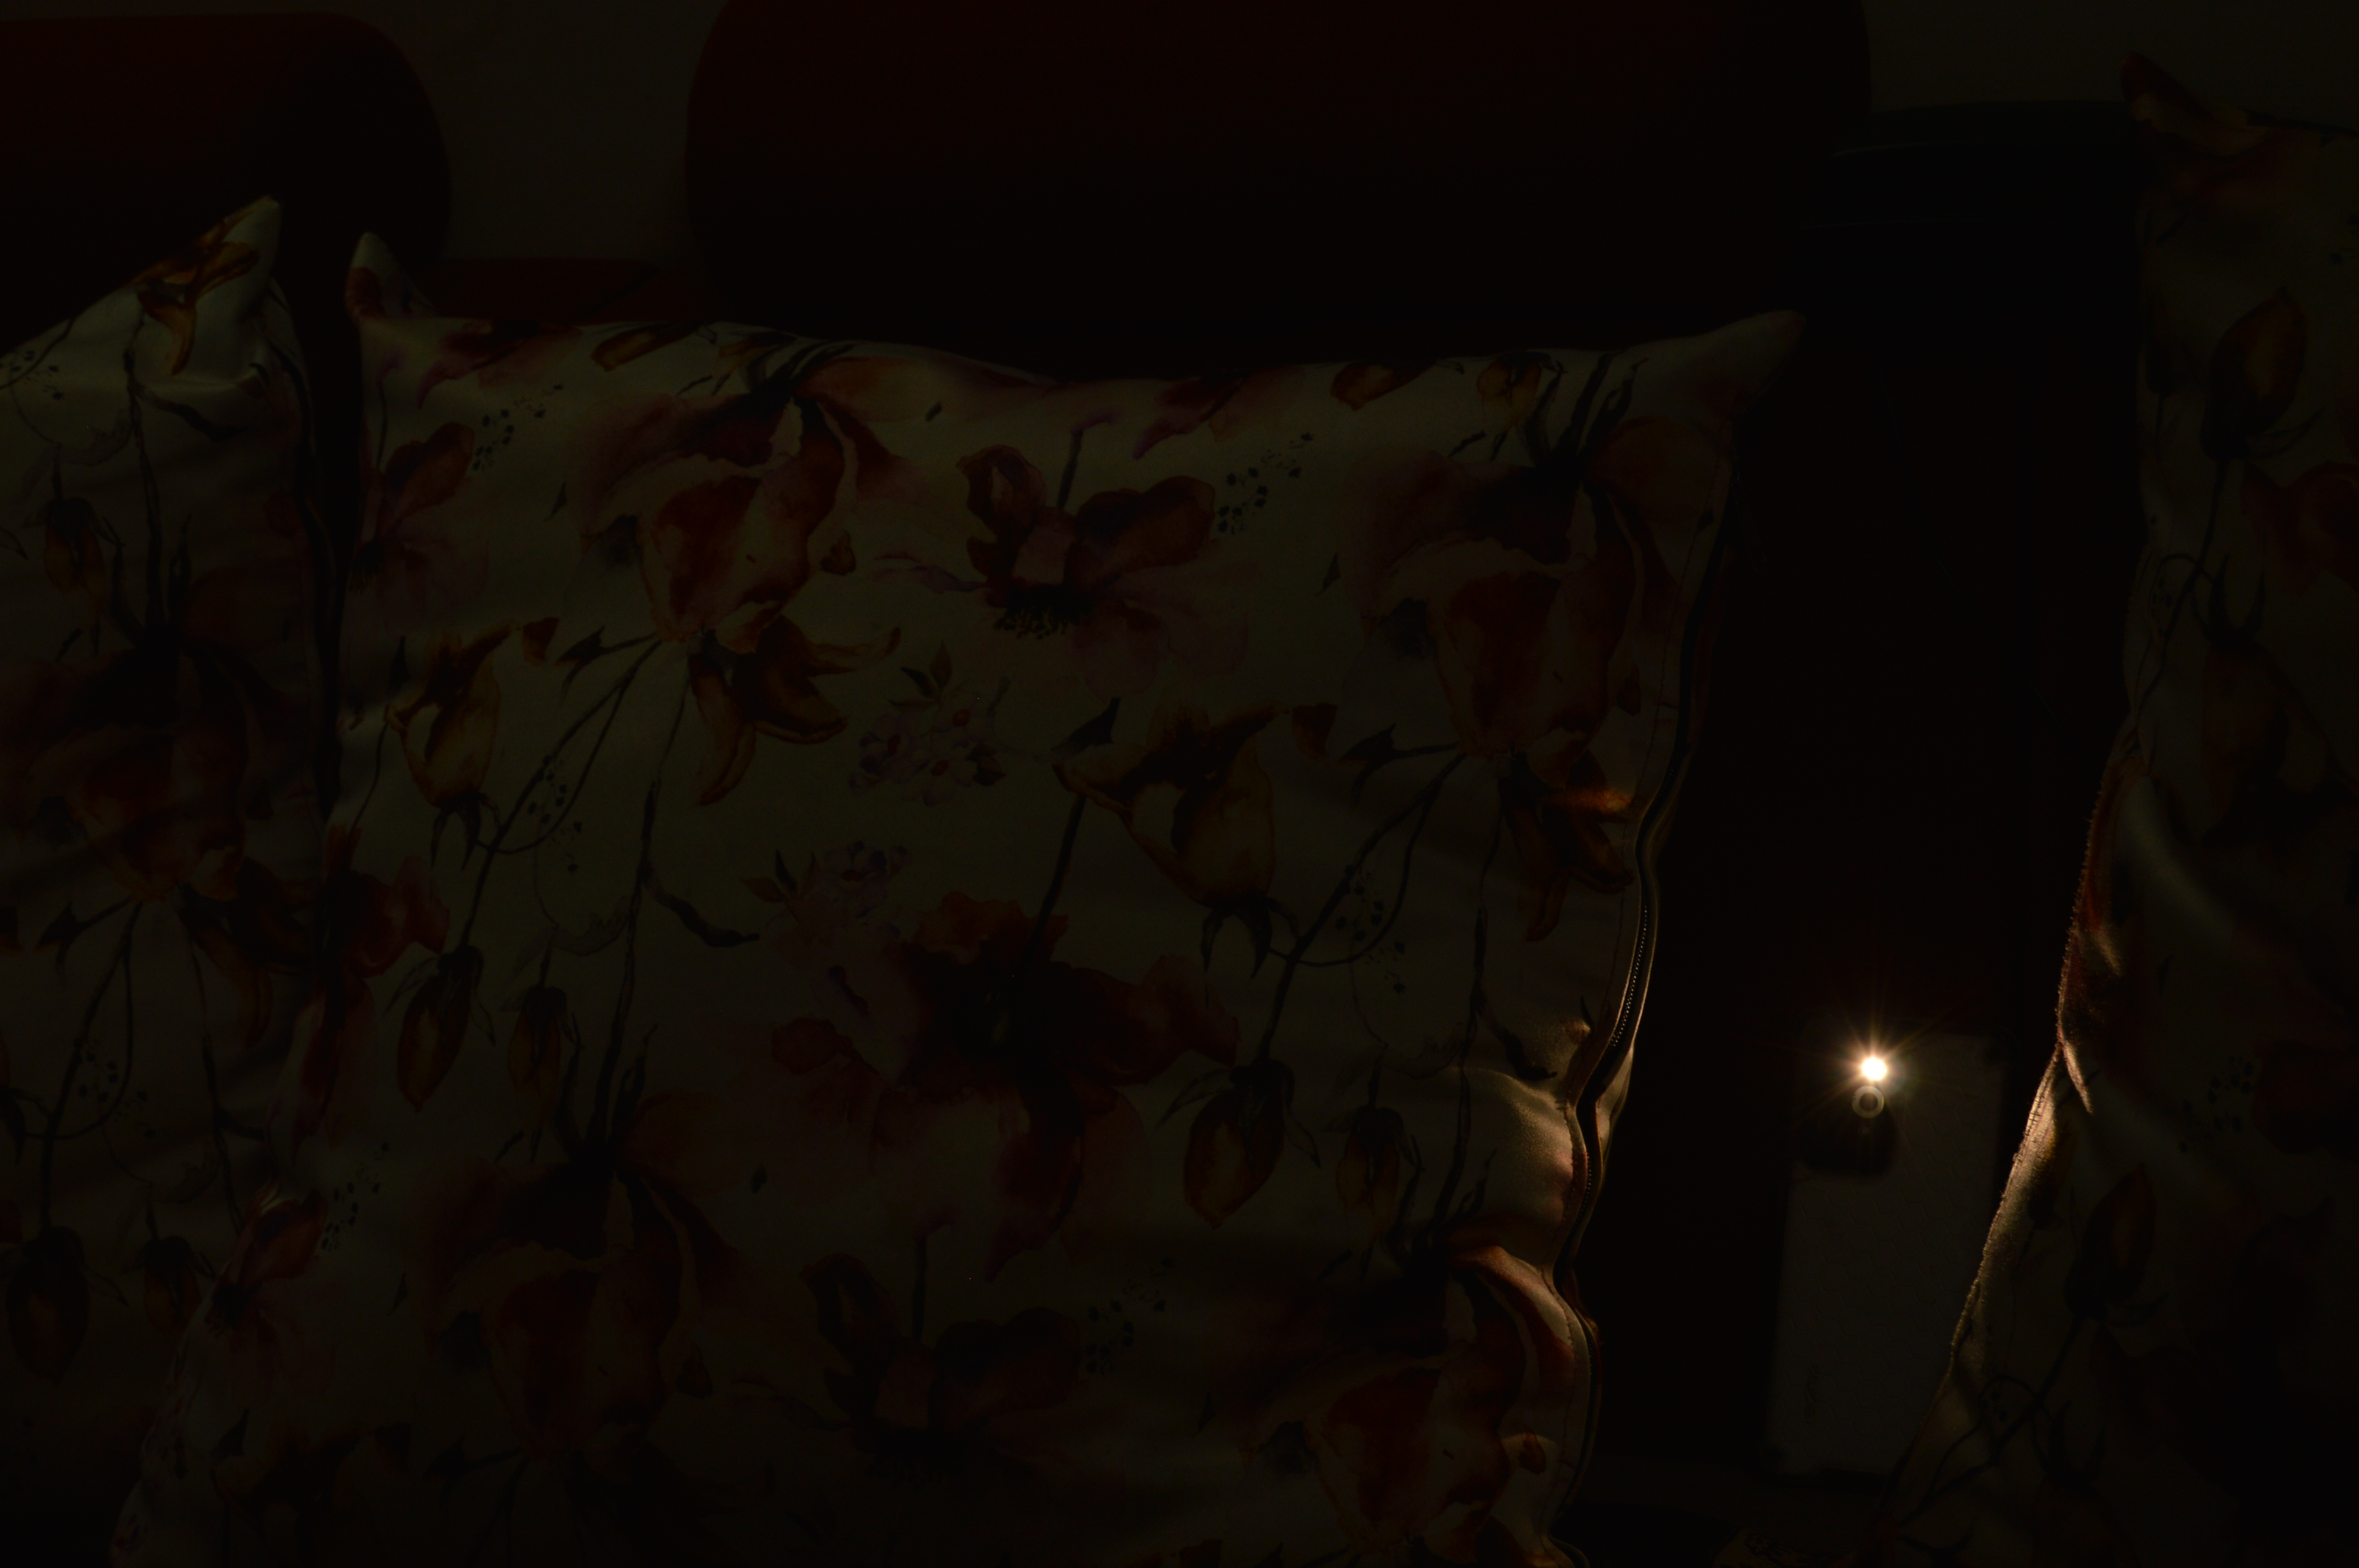Glare: (1851, 1034, 1897, 1085)
